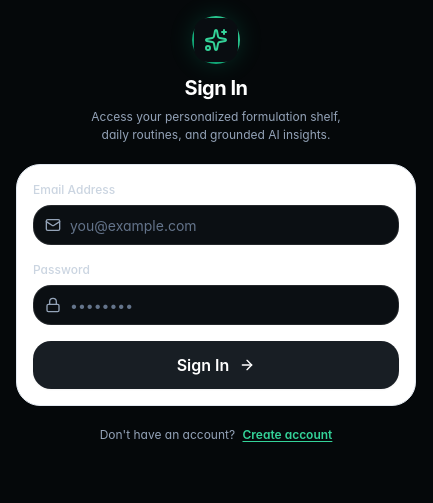
Test: Auth UI Components & ProtectedRoute Guard › LoginPage › displays inline field errors on empty or invalid submission
Click the button "Sign In".
click(216, 365)  # box [33,341,399,389]
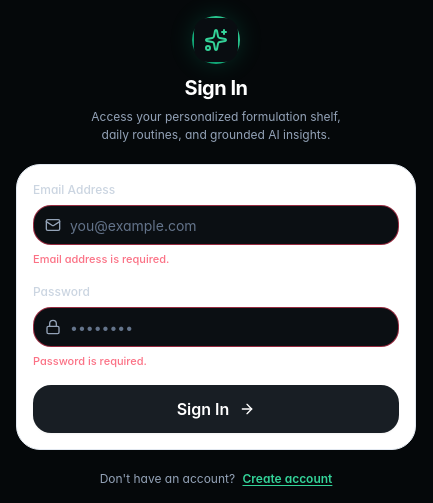
Check: the text "Email address is required." is shown, box [33,252,169,266]
Check: the text "Password is required." is shown, box [33,354,147,368]
Enter invalid email
Type "invalid-email" into the field labelled "Email Address".
click(216, 225); type("invalid-email")  # box [33,205,399,245]
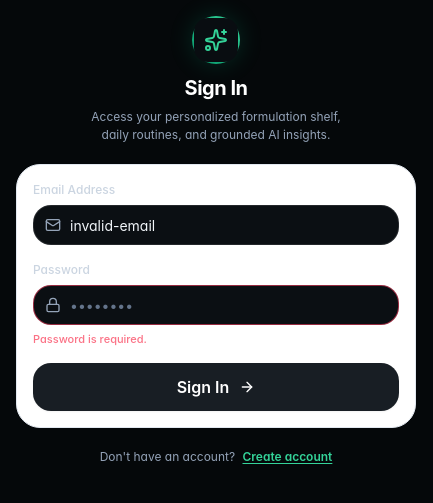
Type "123" into the password field labelled "Password".
click(216, 305); type("123")  # box [33,285,399,325]
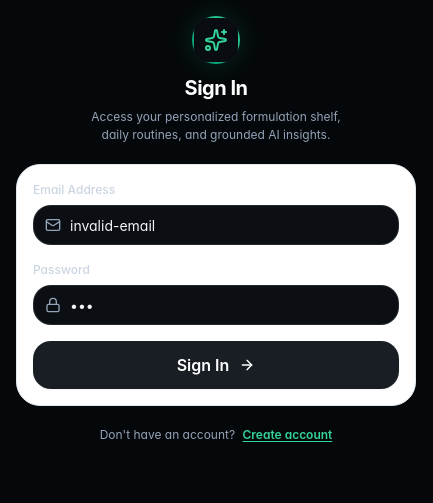
Click the button "Sign In".
click(216, 365)  # box [33,341,399,389]
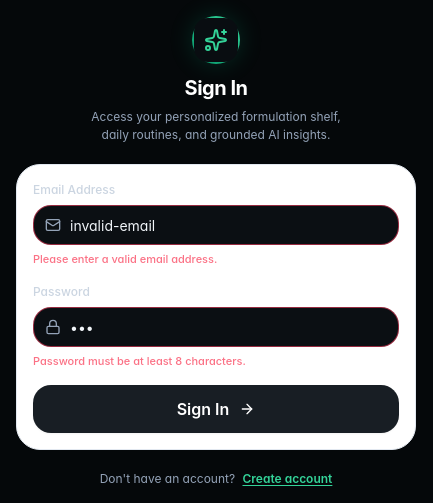
Check: the text "Please enter a valid email address." is shown, box [33,252,217,266]
Check: the text "Password must be at least 8 characters." is shown, box [33,354,246,368]
